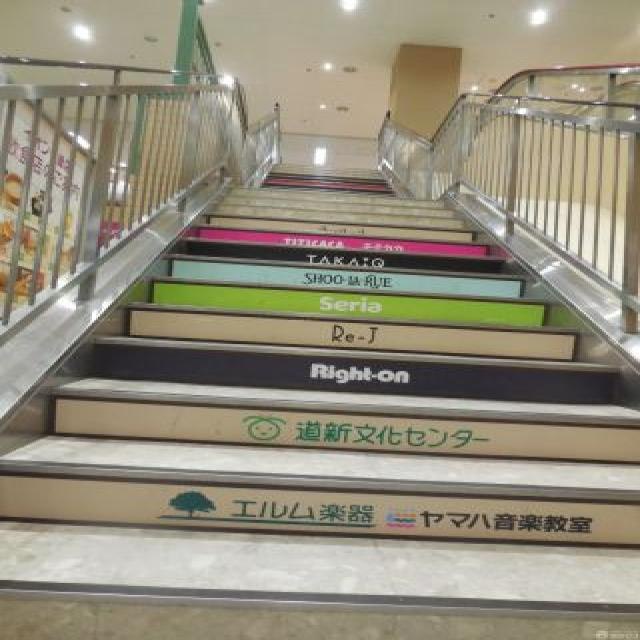Stairs: (0, 68, 638, 638)
